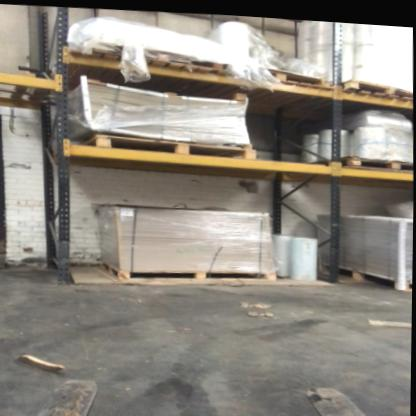vertical_damage: (56, 228, 76, 255)
